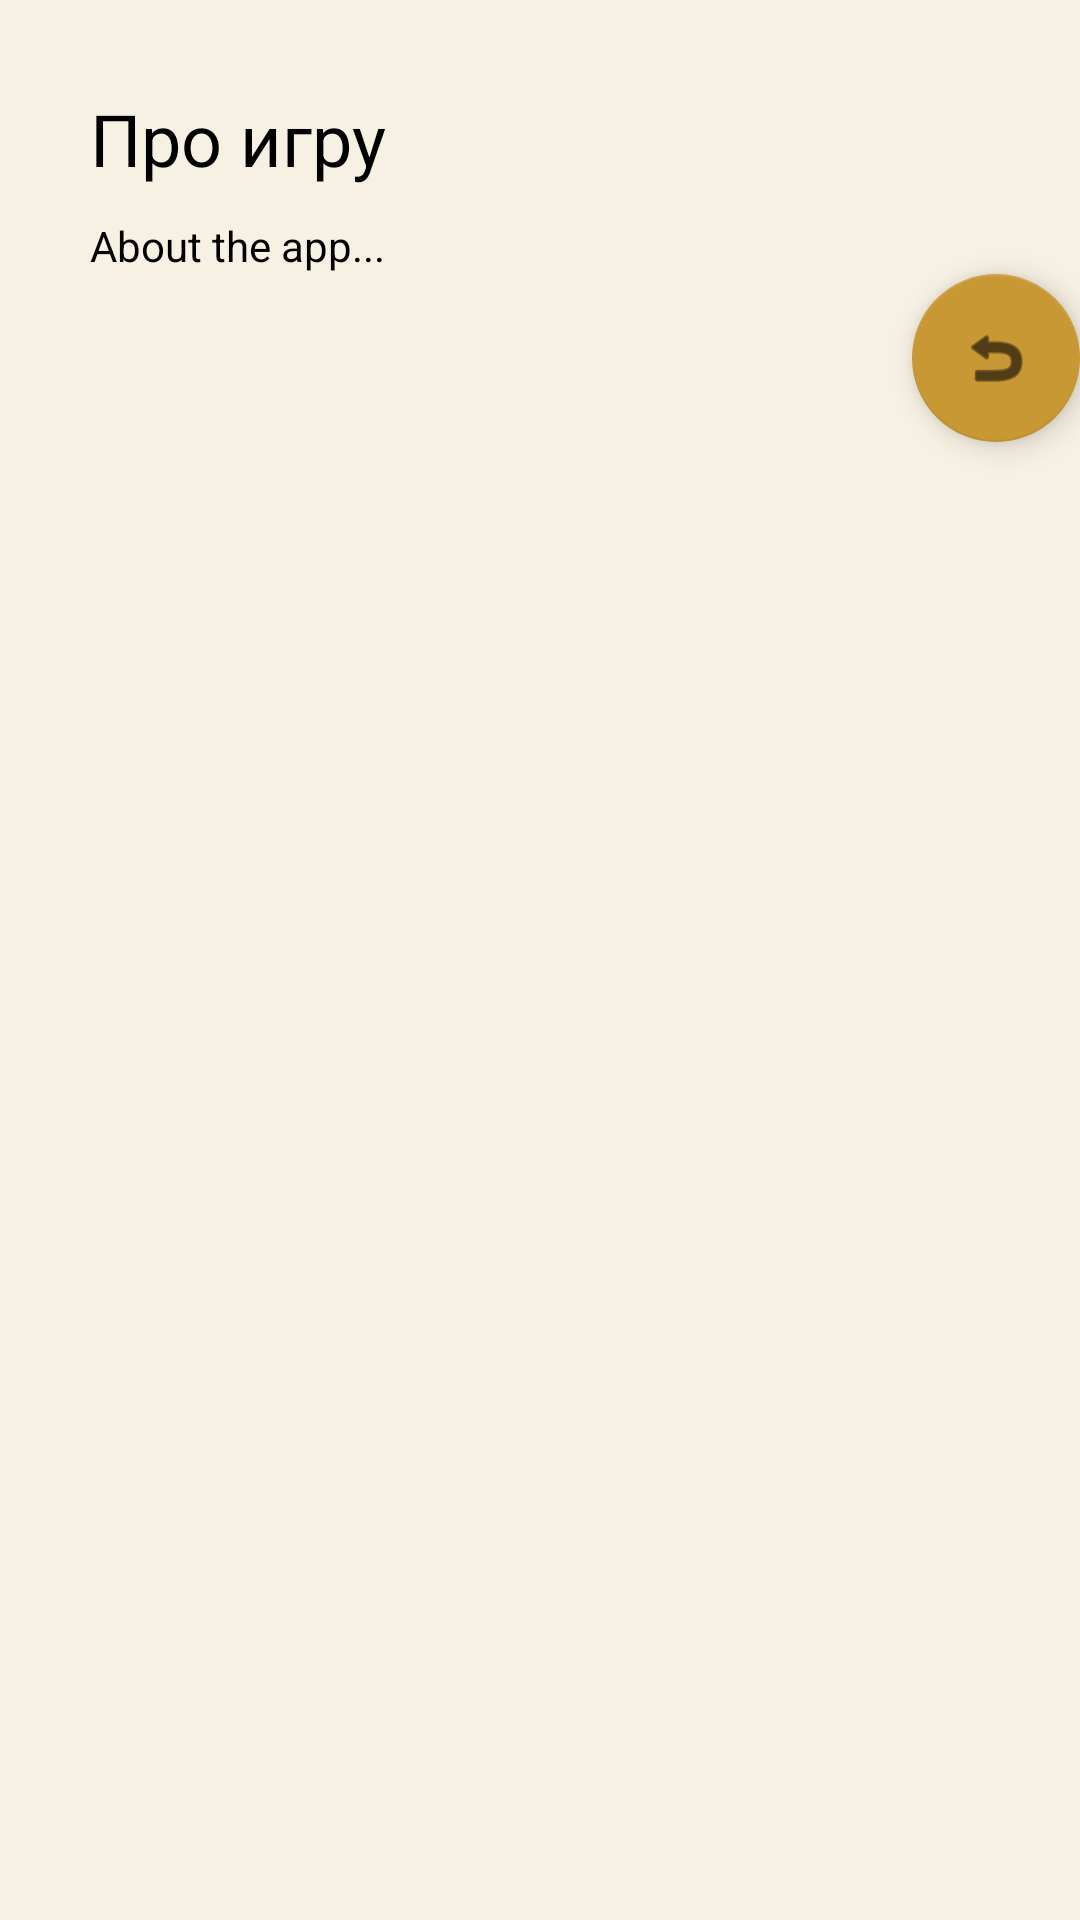

Icon bounding boxes for this 1080 x 1920 phone screenshot, format (x1, y1, x2, y2):
revert: (912, 274, 1080, 442)
